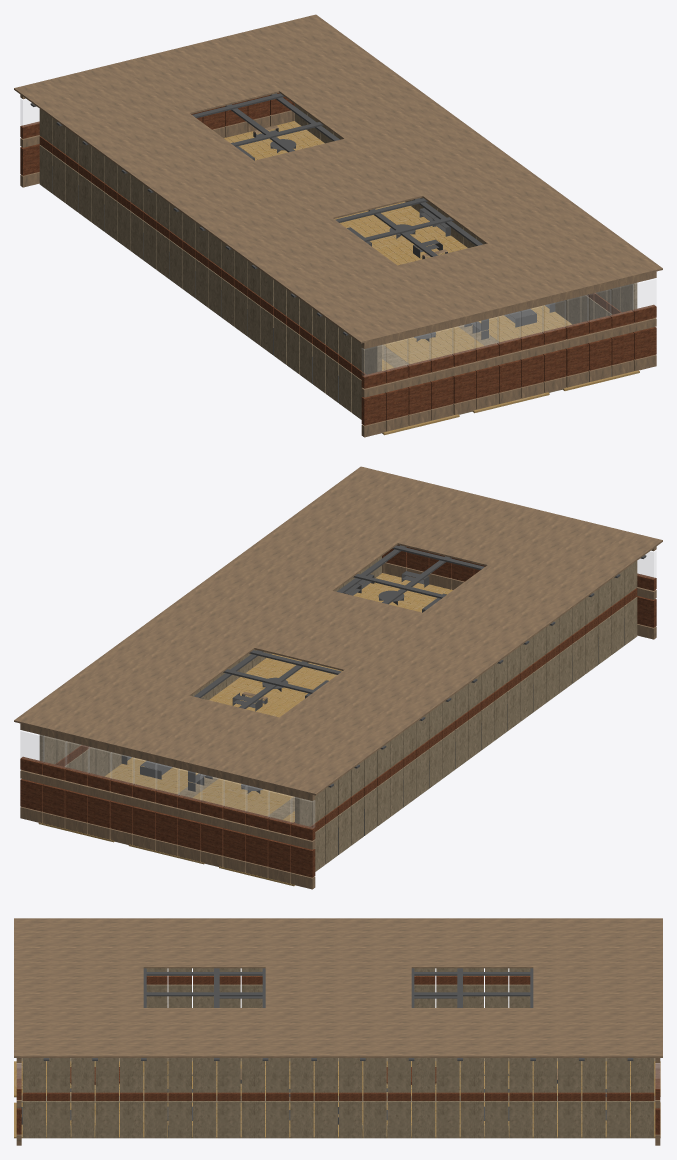
The model's file is mm67-double-wood-as-opt.glb.
3 views of the same model, one above another, from view 1: azimuth 30°, elevation 25°; view 2: azimuth 150°, elevation 25°; view 3: azimuth 270°, elevation 25° (orthographic). The views are drawn at different scales.
Parts seen in each view (by area): view 1: Mesh_1.049 (×4), Merged Objects 9, Merged Objects 10; view 2: Mesh_1.049 (×4), Merged Objects 9, Merged Objects 10; view 3: Mesh_1.049 (×4), Merged Objects 10.
Boxes of the visible parts, left/top/right/bottom form: Mesh_1.049 (×4): left=14, top=14, right=662, bottom=437; Merged Objects 9: left=20, top=98, right=656, bottom=376; Merged Objects 10: left=30, top=93, right=611, bottom=402; Mesh_1.049 (×4): left=14, top=466, right=662, bottom=889; Merged Objects 9: left=20, top=550, right=656, bottom=828; Merged Objects 10: left=121, top=545, right=646, bottom=854; Mesh_1.049 (×4): left=14, top=918, right=662, bottom=1145; Merged Objects 10: left=21, top=968, right=633, bottom=1137.
Bounding box in the file's own units: 40.22 × 12.59 × 80.
Materials: 6 (4 with a texture image).
